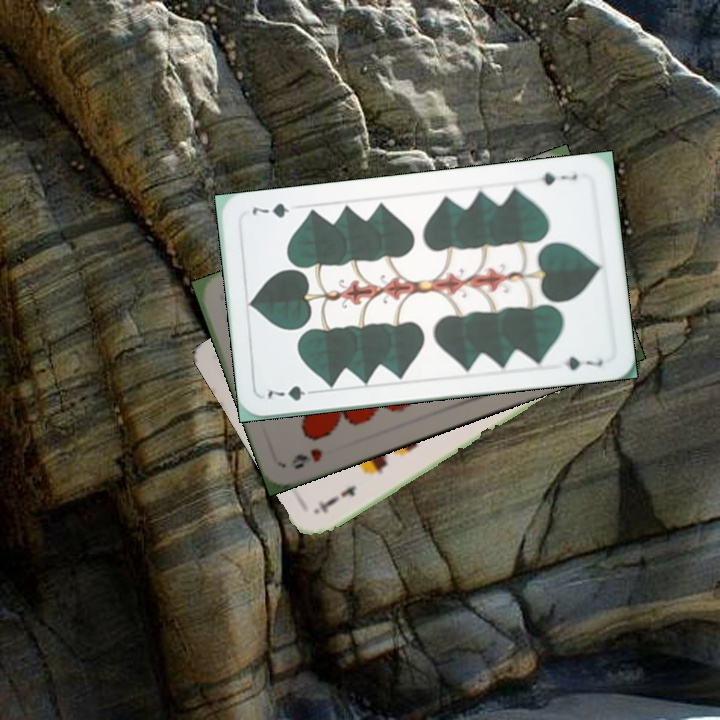E7: (312, 481, 359, 517)
G7: (263, 381, 321, 403), (537, 169, 580, 188)
H9: (287, 444, 325, 472)
